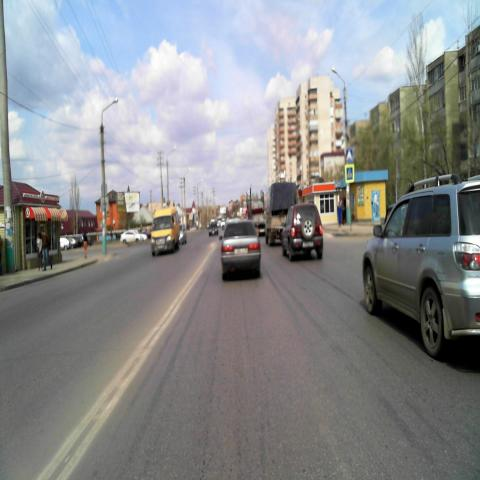5_20: (346, 146, 354, 162)
